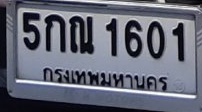num5: (21, 11, 41, 51)
txt01: (42, 12, 67, 55)
txt14: (67, 14, 95, 55)
